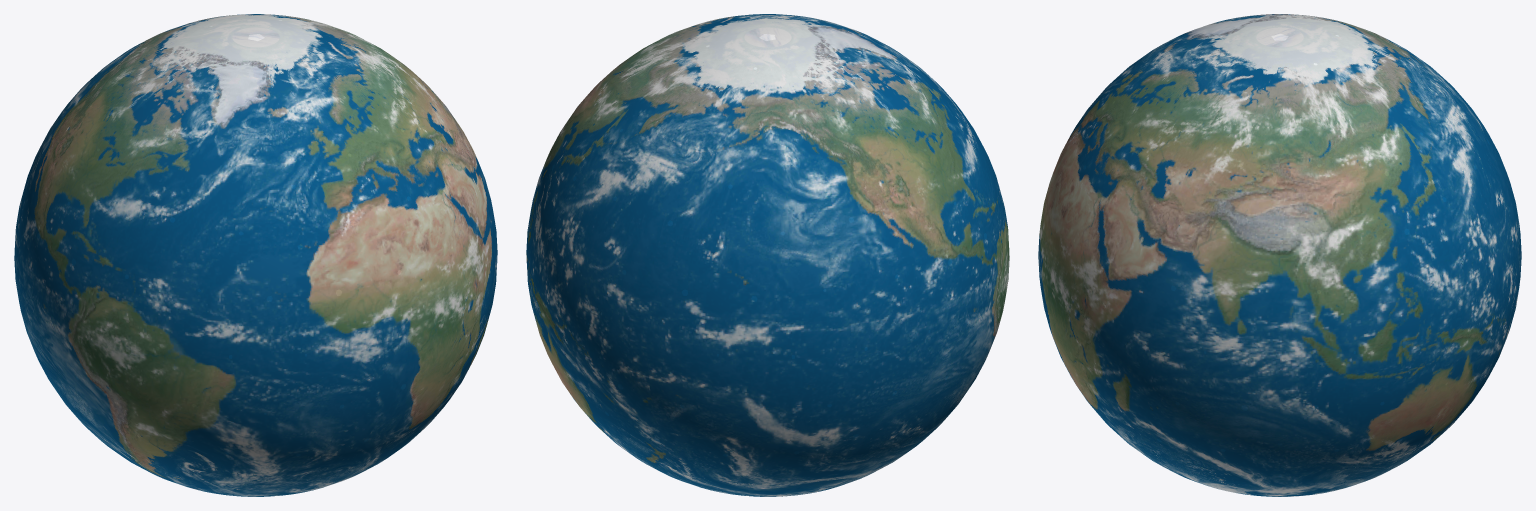
File: Earth.glb
The picture shows the model from 3 angles, left to right: view 1: azimuth 30°, elevation 25°; view 2: azimuth 150°, elevation 25°; view 3: azimuth 270°, elevation 25°; orthographic projection.
Parts seen in each view (by area): view 1: Earth, Earth_Lod; view 2: Earth, Earth_Lod; view 3: Earth, Earth_Lod.
Boxes of the visible parts, left/top/right/bottom form: Earth: left=14, top=14, right=497, bottom=496; Earth_Lod: left=19, top=20, right=496, bottom=490; Earth: left=526, top=14, right=1009, bottom=496; Earth_Lod: left=527, top=20, right=1004, bottom=490; Earth: left=1038, top=14, right=1521, bottom=496; Earth_Lod: left=1048, top=17, right=1511, bottom=495.
Bounding box in the file's own units: 2 × 2 × 2.
Materials: 2 (2 with a texture image).
